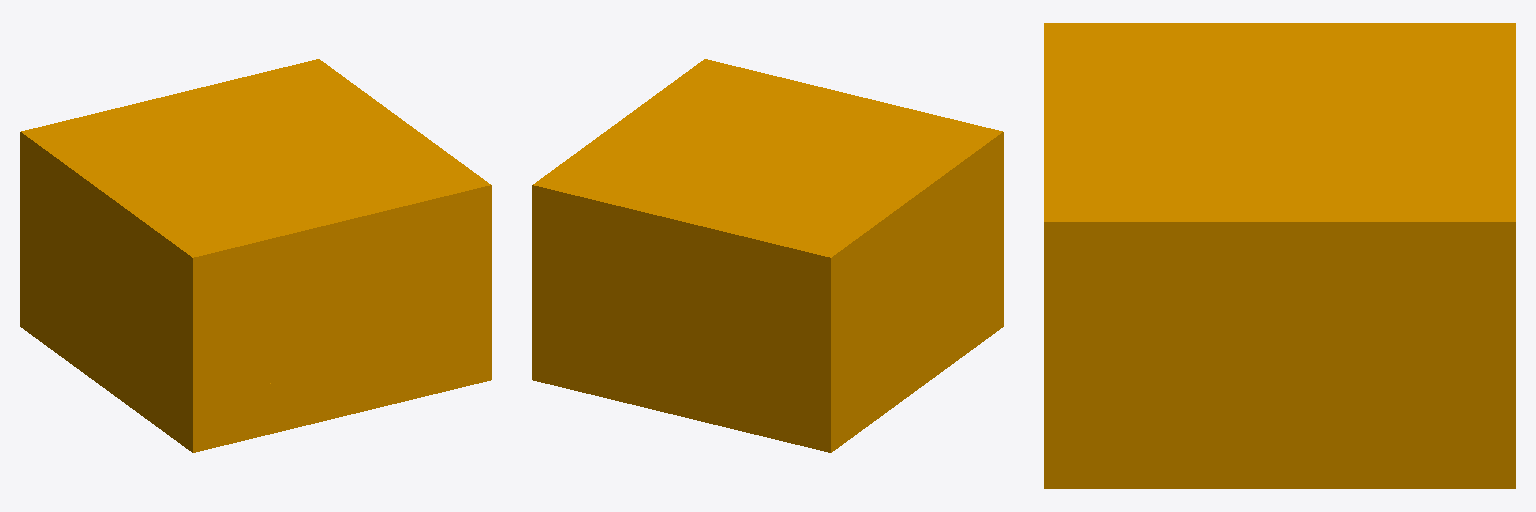
robot.urdf — table:
<?xml version="1.0"?>
<robot name="table">
  <link name="base_link">
    <inertial>
      <mass value="100.0"/>
      <inertia ixx="0.01" ixy="0" ixz="0" iyy="0.01" iyz="0" izz="0.01"/>
    </inertial>
    <collision>
      <geometry>
        <box size="0.8 0.8 0.5"/>
      </geometry>
    </collision>
    <visual>
      <geometry>
        <box size="0.8 0.8 0.5"/>
      </geometry>
    </visual>
  </link>
</robot>

--- What the picture shows (computed from the rendered views, not written in the file) ---
3 views of the same robot in one strip: view 1: azimuth 30°, elevation 25°; view 2: azimuth 150°, elevation 25°; view 3: azimuth 270°, elevation 25° (orthographic).
Model table with 1 links and 0 joints (none), rooted at base_link, posed all joints at 0.
Visible links, largest first — view 1: base_link; view 2: base_link; view 3: base_link.
Link boxes in pixels (x1,y1,x2,y2): base_link: [20, 59, 491, 452]; base_link: [532, 59, 1003, 452]; base_link: [1044, 23, 1515, 488].
Size in the robot's own frame: 0.8 by 0.8 by 0.5 metres.
Geometry: primitives only (box / cylinder / sphere), no mesh files.
